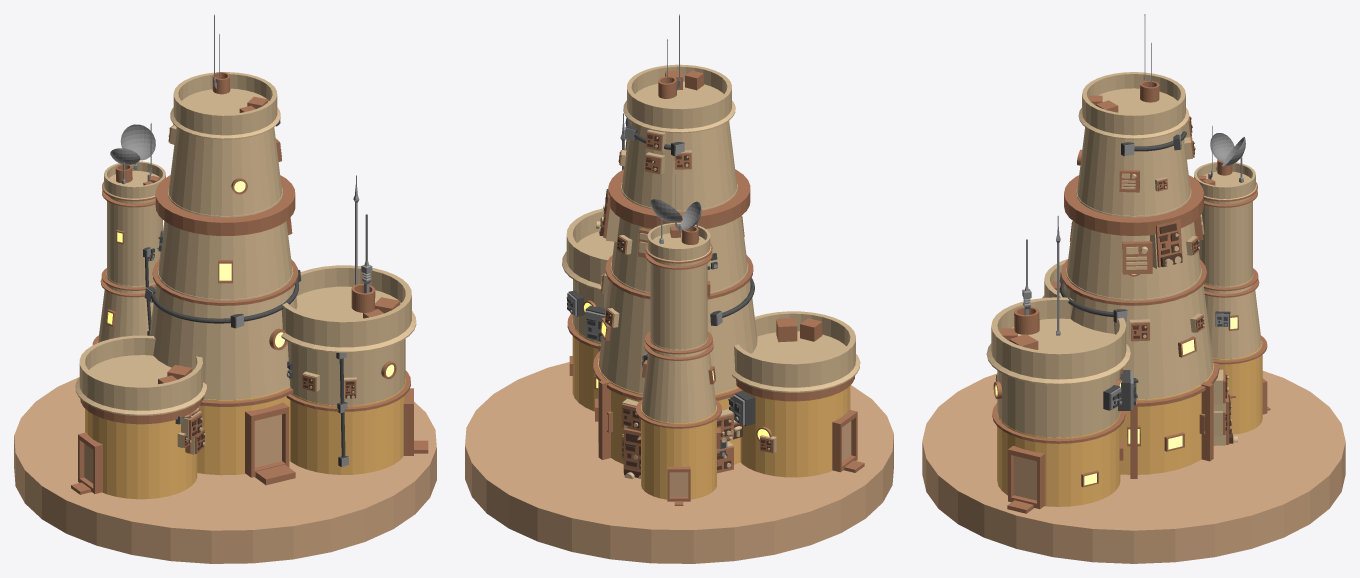
The model's file is nomad_building_19.fbx.
3 renders of one model, left to right at view 1: azimuth 30°, elevation 25°; view 2: azimuth 150°, elevation 25°; view 3: azimuth 270°, elevation 25°, orthographic.
Visible parts, largest first — view 1: B19_M_Foundation_foundation, B19_M_Drum1, B19_A3_Crown_RoofDeck_Ringwall, B19_M_Drum2, B19_M_Drum3, B19_A2_Crown_RoofDeck_Ringwall, B19_A3_Drum0, B19_A2_Drum0, B19_M_Crown_RoofDeck_Ringwall, B19_A3_Drum1, B19_A1_Drum2, B19_M_Drum0 (+15 smaller); view 2: B19_M_Foundation_foundation, B19_M_Drum1, B19_A2_Crown_RoofDeck_Ringwall, B19_M_Drum3, B19_A2_Drum0, B19_M_Crown_RoofDeck_Ringwall, B19_A1_Drum0, B19_A1_Drum2, B19_A1_Drum1, B19_M_Drum2, B19_A3_Crown_RoofDeck_Ringwall, B19_M_Ring20_TowerTrim_BandWide (+10 smaller); view 3: B19_M_Foundation_foundation, B19_M_Drum1, B19_A3_Crown_RoofDeck_Ringwall, B19_M_Drum3, B19_M_Drum2, B19_A3_Drum1, B19_A3_Drum0, B19_M_Crown_RoofDeck_Ringwall, B19_M_Drum0, B19_A1_Drum2, B19_M_Ring20_TowerTrim_BandWide, B19_A1_Drum1 (+12 smaller).
Boxes of the visible parts, box(x1,y1,x2,y2) form: B19_M_Foundation_foundation: box(14, 377, 436, 563); B19_M_Drum1: box(149, 266, 297, 399); B19_A3_Crown_RoofDeck_Ringwall: box(281, 265, 416, 352); B19_M_Drum2: box(158, 188, 292, 299); B19_M_Drum3: box(168, 127, 282, 215); B19_A2_Crown_RoofDeck_Ringwall: box(75, 335, 206, 415); B19_A3_Drum0: box(290, 378, 405, 474); B19_A2_Drum0: box(85, 408, 197, 499); B19_M_Crown_RoofDeck_Ringwall: box(170, 72, 280, 139); B19_A3_Drum1: box(287, 339, 405, 405); B19_A1_Drum2: box(107, 196, 162, 285); B19_M_Drum0: box(197, 386, 290, 475); B19_M_Foundation_foundation: box(465, 362, 893, 563); B19_M_Drum1: box(598, 262, 757, 393); B19_A2_Crown_RoofDeck_Ringwall: box(732, 311, 860, 392); B19_M_Drum3: box(622, 121, 736, 210); B19_A2_Drum0: box(740, 386, 850, 477); B19_M_Crown_RoofDeck_Ringwall: box(623, 64, 735, 133); B19_A1_Drum0: box(641, 404, 716, 499); B19_A1_Drum2: box(650, 257, 707, 349); B19_A1_Drum1: box(641, 337, 716, 423); B19_M_Drum2: box(611, 182, 747, 292); B19_A3_Crown_RoofDeck_Ringwall: box(562, 208, 614, 290); B19_M_Ring20_TowerTrim_BandWide: box(608, 169, 750, 228); B19_M_Foundation_foundation: box(922, 371, 1345, 563); B19_M_Drum1: box(1064, 266, 1213, 399); B19_A3_Crown_RoofDeck_Ringwall: box(986, 297, 1130, 384); B19_M_Drum3: box(1077, 127, 1190, 215); B19_M_Drum2: box(1066, 188, 1201, 299); B19_A3_Drum1: box(997, 370, 1120, 437); B19_A3_Drum0: box(997, 412, 1120, 506); B19_M_Crown_RoofDeck_Ringwall: box(1078, 72, 1189, 139); B19_M_Drum0: box(1120, 363, 1214, 474); B19_A1_Drum2: box(1199, 196, 1252, 286); B19_M_Ring20_TowerTrim_BandWide: box(1064, 175, 1203, 235); B19_A1_Drum1: box(1203, 274, 1261, 358).
Bounding box in the file's own units: 599 × 715 × 599.
